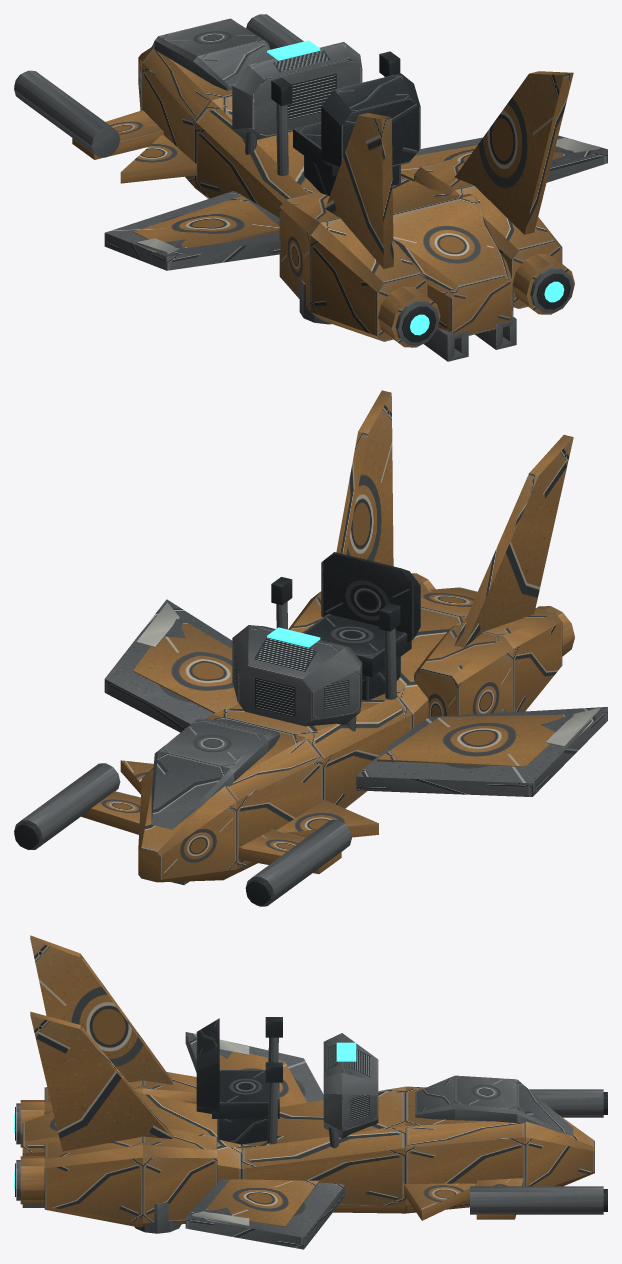
File: scout.glb
The picture shows the model from 3 angles, top to bottom: view 1: azimuth 30°, elevation 25°; view 2: azimuth 150°, elevation 25°; view 3: azimuth 270°, elevation 25°; orthographic projection. The views are drawn at different scales.
Visible parts, largest first — view 1: STScout_Hull, STScout_ControlGrip, STScout_ControlGrip.001; view 2: STScout_Hull; view 3: STScout_Hull.
Boxes of the visible parts, x1,y1,x2,y2 form: STScout_Hull: (14,14,607,361); STScout_ControlGrip: (271,78,292,106); STScout_ControlGrip.001: (379,51,400,76); STScout_Hull: (14,390,607,906); STScout_Hull: (14,935,607,1249).
Size of the model in its own units: 4 by 2.2 by 5.43.
5 materials, 4 textured.
